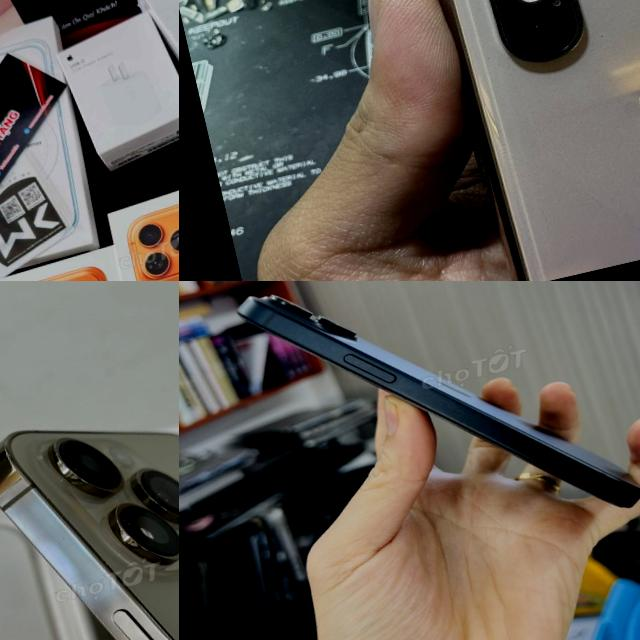scratch: (598, 32, 604, 40)
